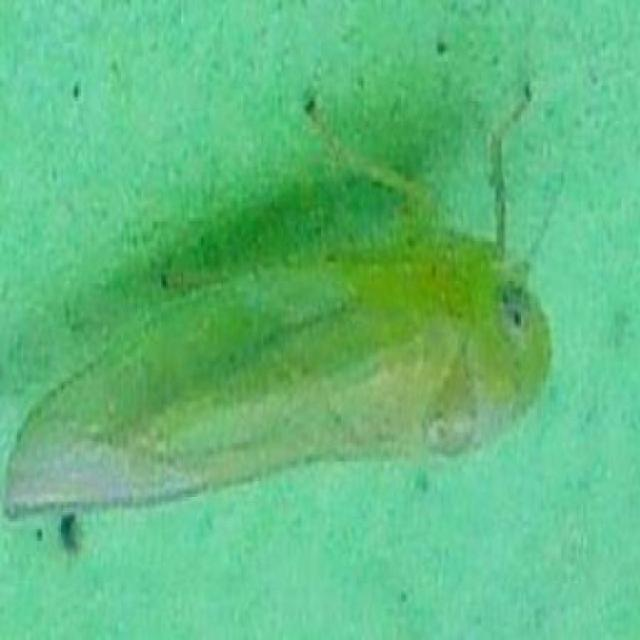green-leafhopper: (8, 247, 555, 490)
